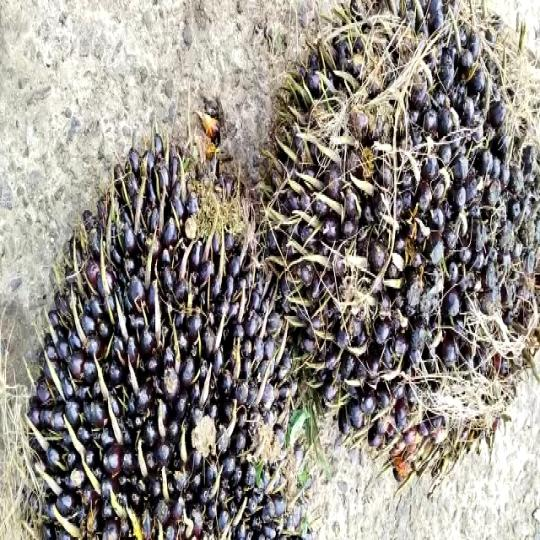mentah: (260, 7, 540, 475), (24, 143, 303, 540)
